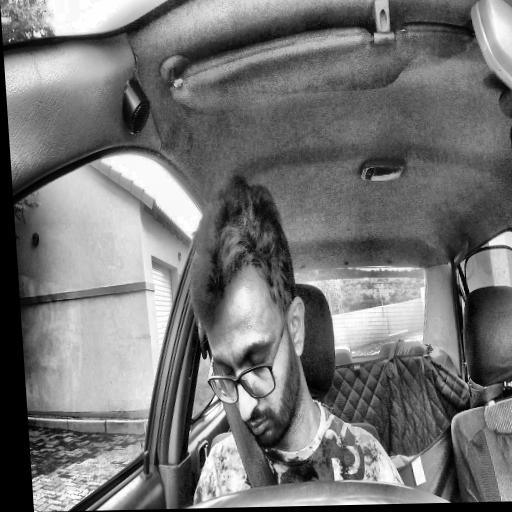drowsy: (182, 175, 312, 454)
